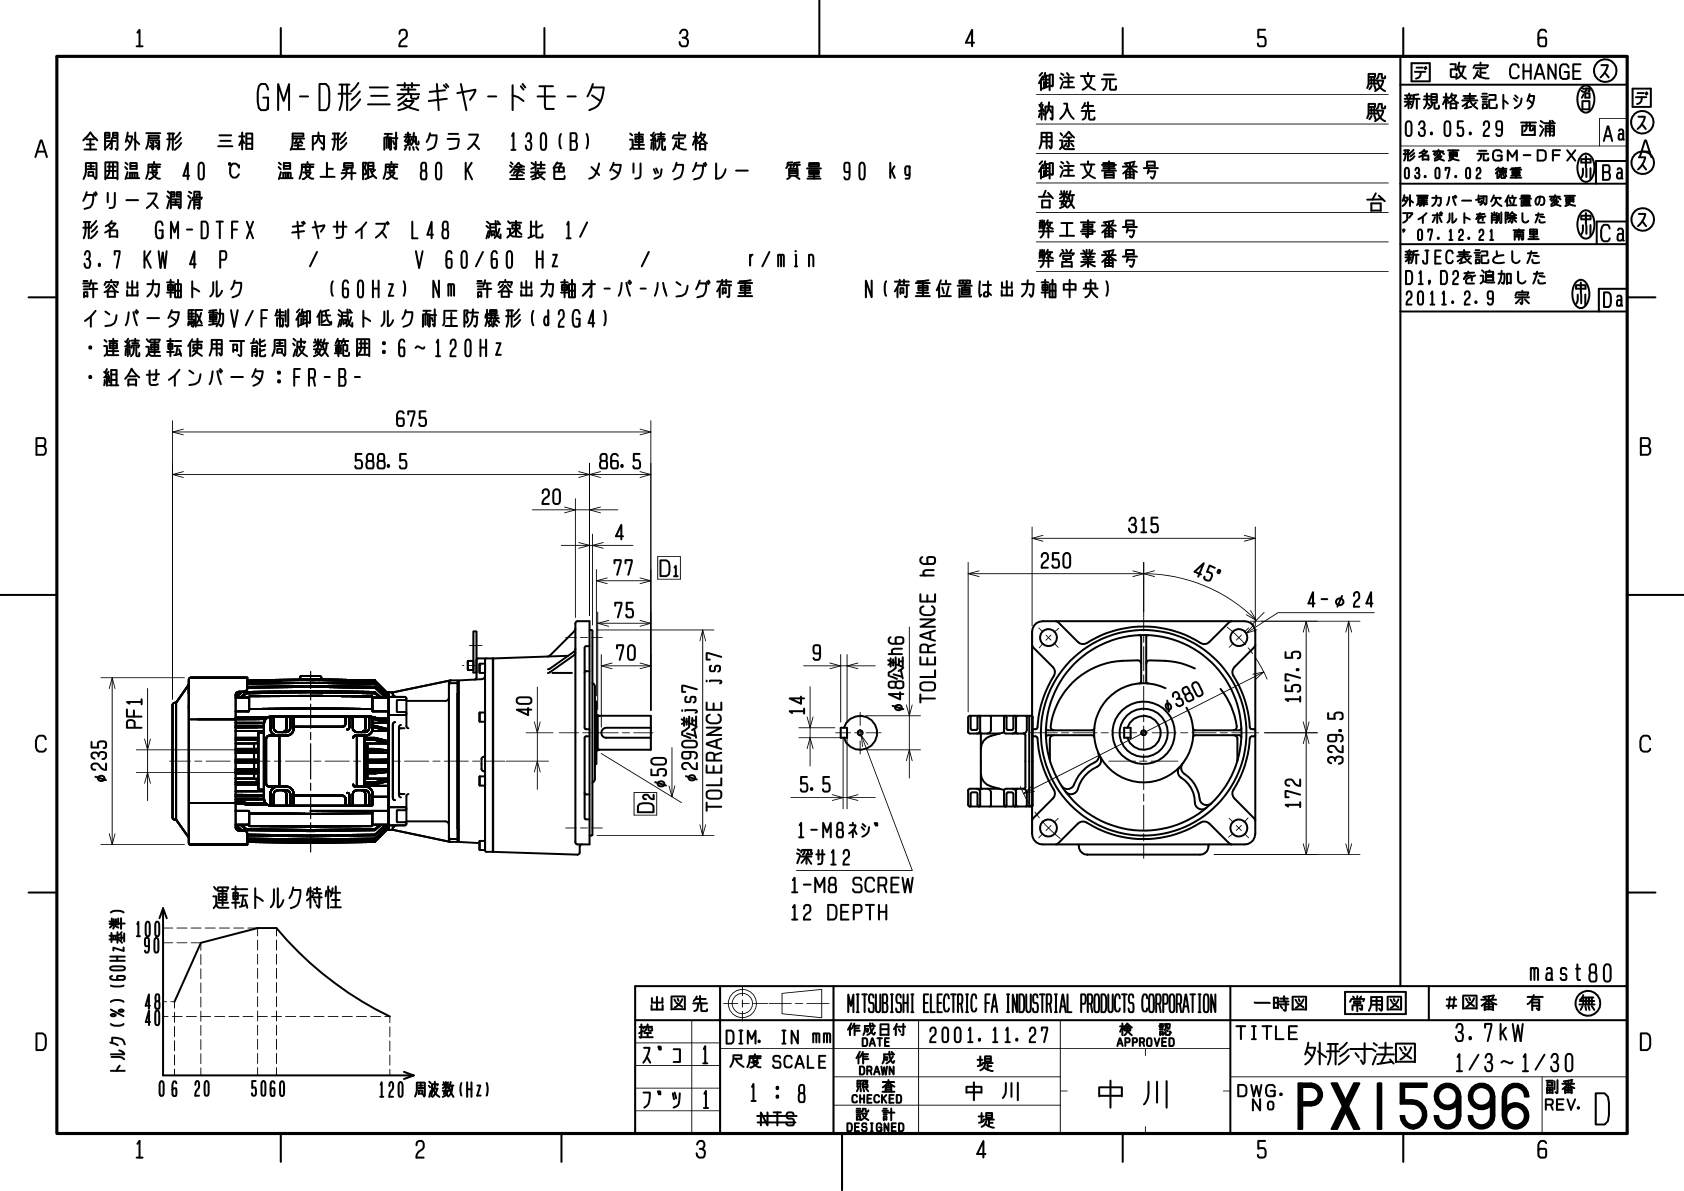GM_D_VF制御屋内_三相_フランジ: (64, 402, 1393, 959)
